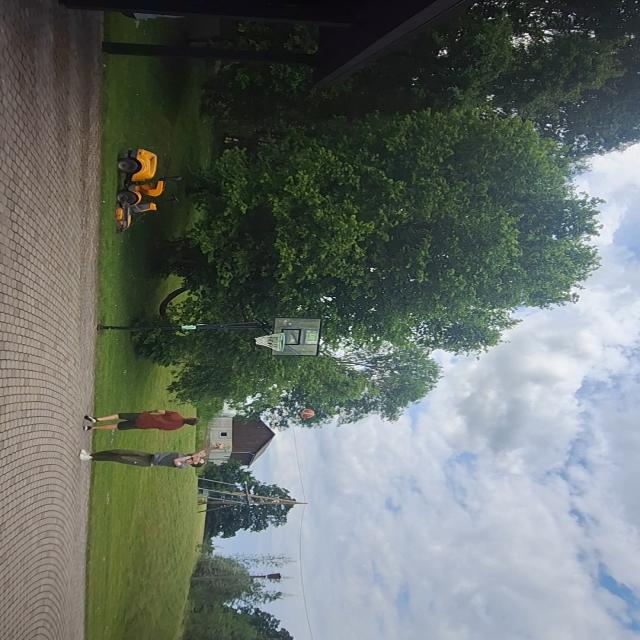ball: (299, 407, 318, 420)
hoop: (253, 331, 290, 355)
player: (75, 440, 227, 470), (82, 406, 202, 437)
